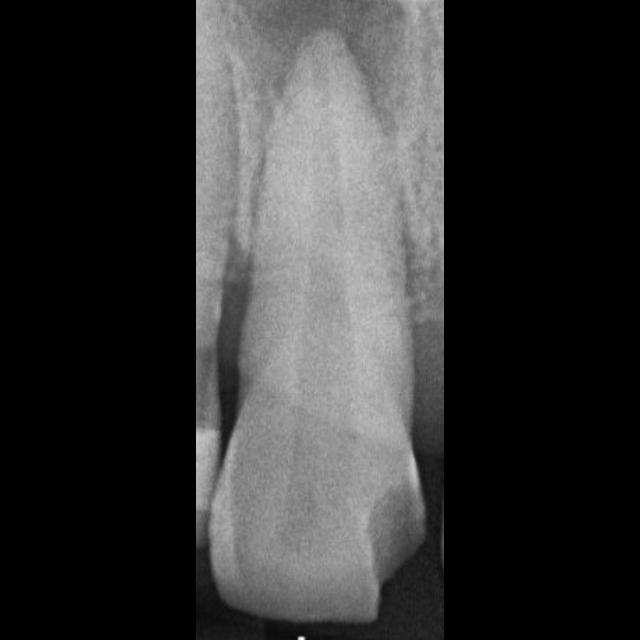tooth: (209, 25, 425, 622)
